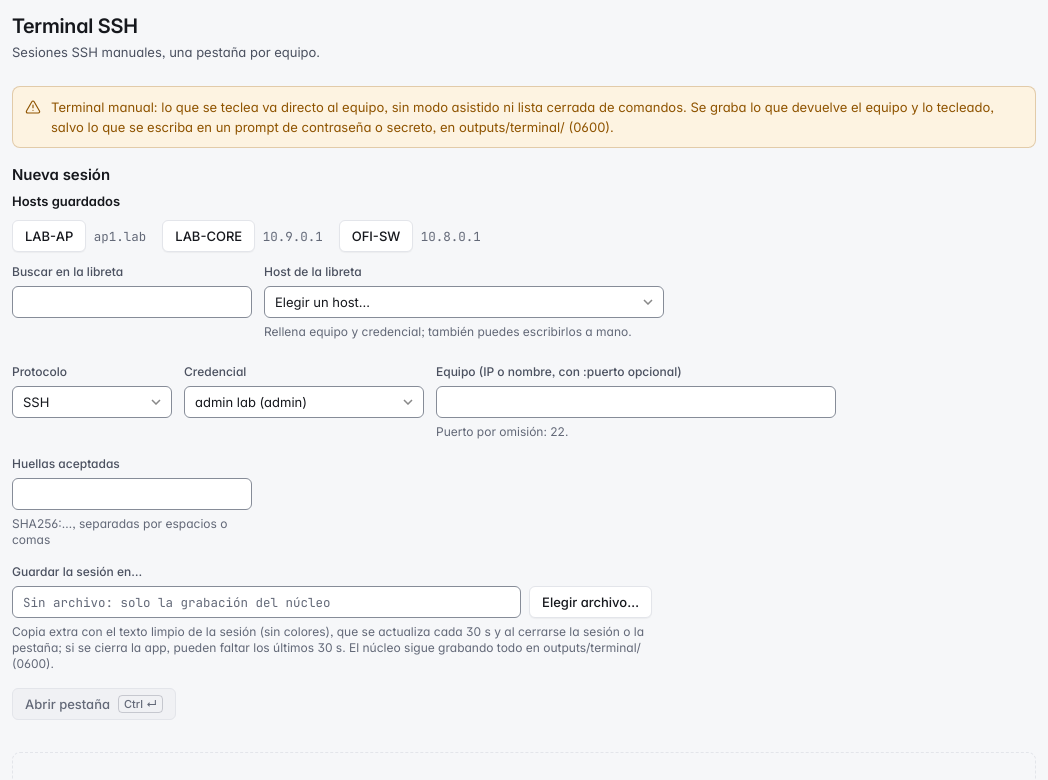
Test: si el núcleo no conecta porque la orden cambió, lo dice claro y recarga los hosts guardados
Click the button with aria-label "Conectar a LAB-CORE" at (209, 236), box [162, 220, 255, 252]
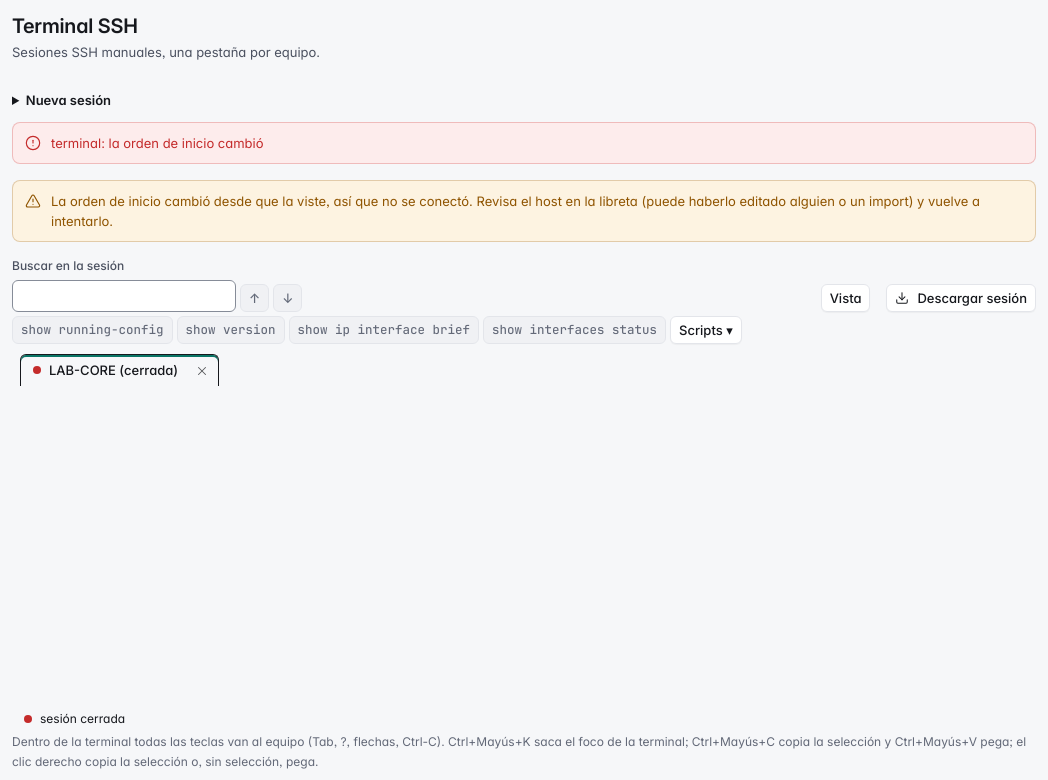
Expected: the text "La orden de inicio cambió desde que la viste" is shown, [51, 193, 980, 229]
